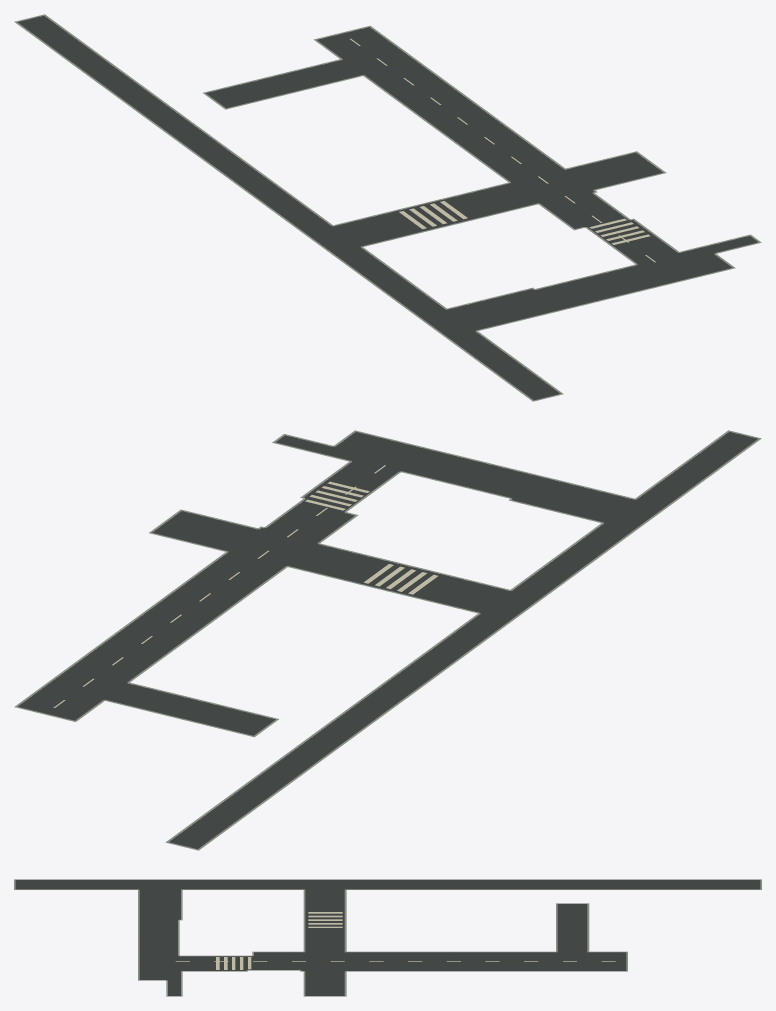
The model's file is SM_QD_Revision_ParksonRoad.fbx.
3 views of the same model, one above another, from view 1: azimuth 30°, elevation 25°; view 2: azimuth 150°, elevation 25°; view 3: azimuth 270°, elevation 25° (orthographic). The views are drawn at different scales.
Visible parts, largest first — view 1: SM_QD_Revision_ParksonRoad; view 2: SM_QD_Revision_ParksonRoad; view 3: SM_QD_Revision_ParksonRoad.
Boxes of the visible parts, left/top/right/bottom form: SM_QD_Revision_ParksonRoad: left=14, top=14, right=761, bottom=401; SM_QD_Revision_ParksonRoad: left=14, top=430, right=761, bottom=850; SM_QD_Revision_ParksonRoad: left=14, top=879, right=761, bottom=996.
Bounding box in the file's own units: 24.45 × 65.69 × 0.003.
